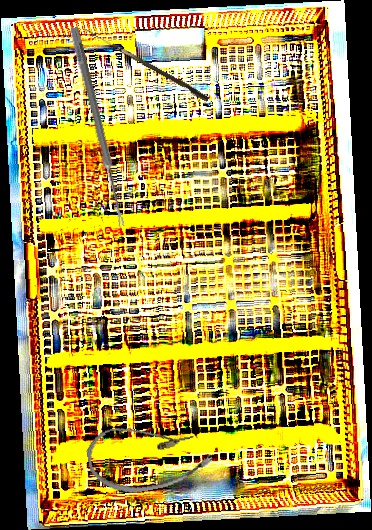Cannula: (83, 411, 216, 501)
Hook Surgical: (80, 27, 211, 103)
Surgical Spoon: (68, 26, 128, 228)
